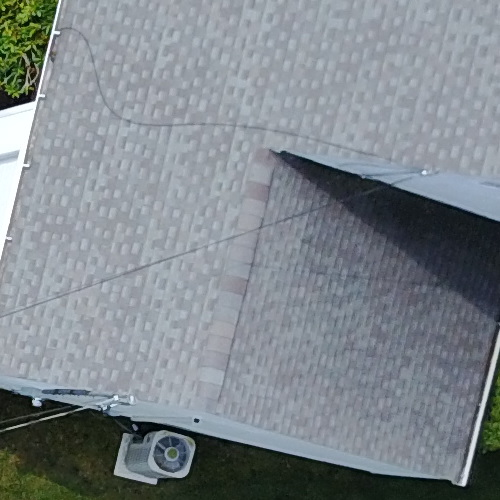air conditioner: (113, 412, 195, 487)
